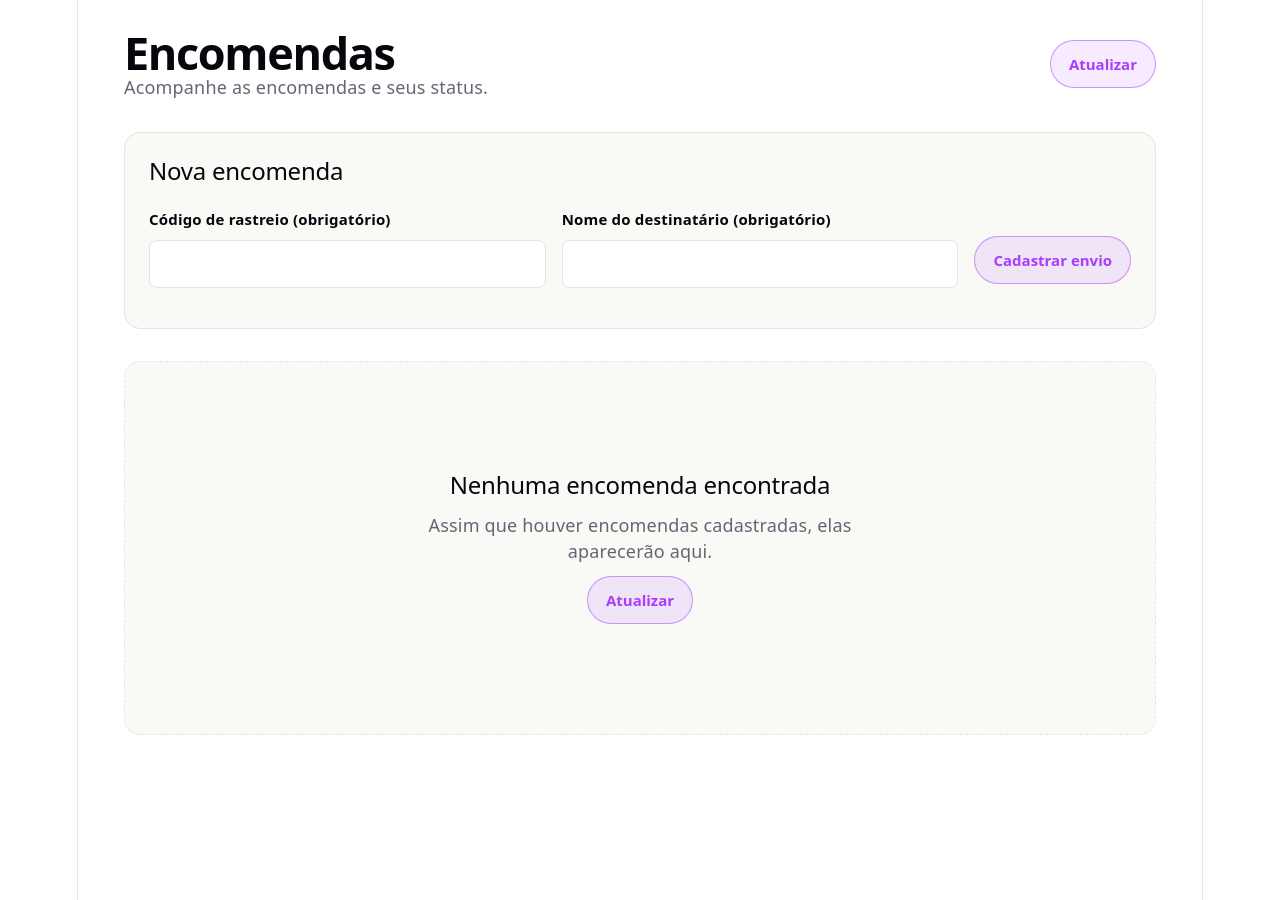
fluxos da página › exibe erro HTTP 409 sem limpar os valores
Expected: the heading "Nenhuma encomenda encontrada" is shown, [450,471,830,500]
Type " AB123BR " into the field labelled "Código de rastreio (obrigatório)".
click(347, 264); type(" AB123BR ")  # box [149,240,546,288]
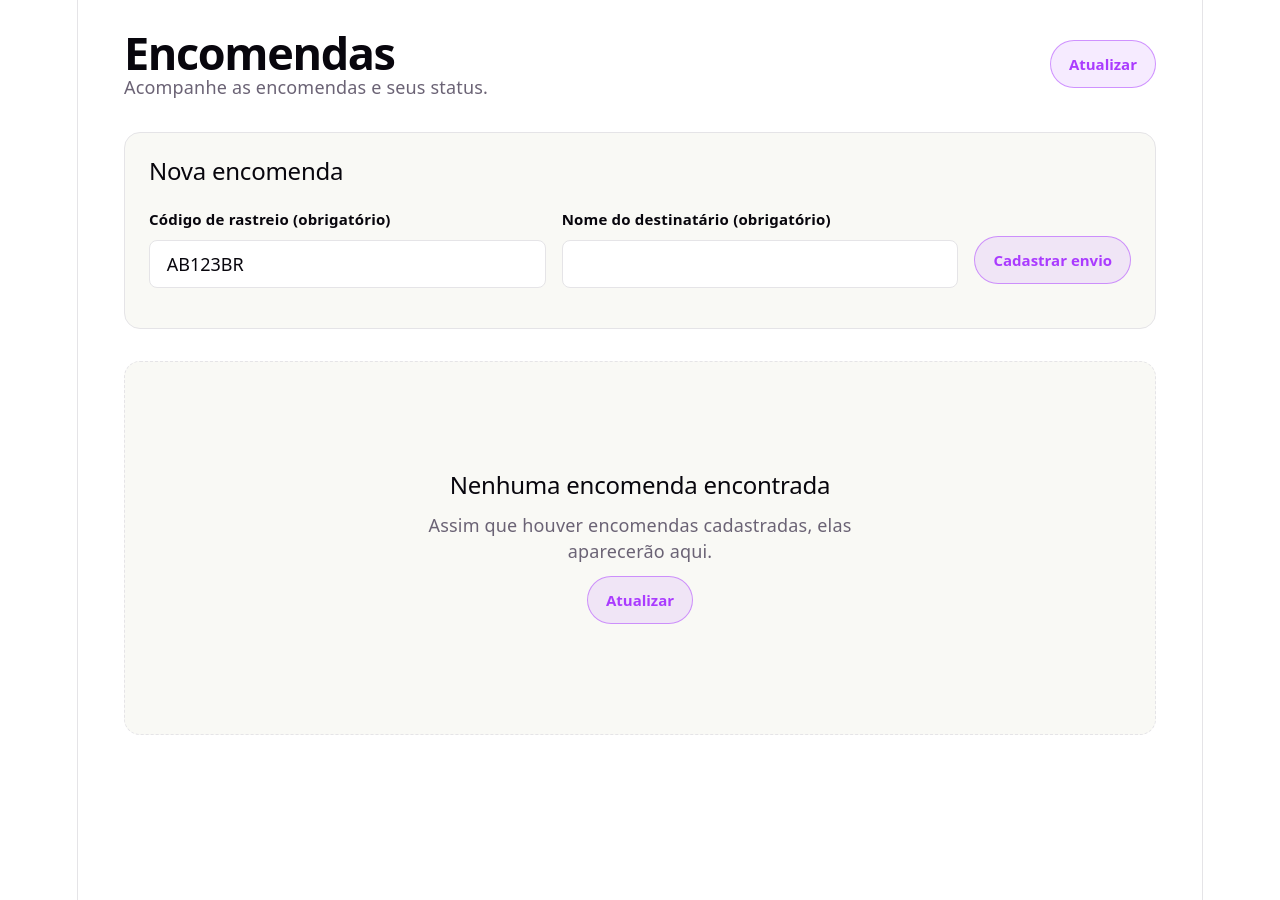
Type "Maria Silva" into the field labelled "Nome do destinatário (obrigatório)".
click(760, 264); type("Maria Silva")  # box [562,240,958,288]
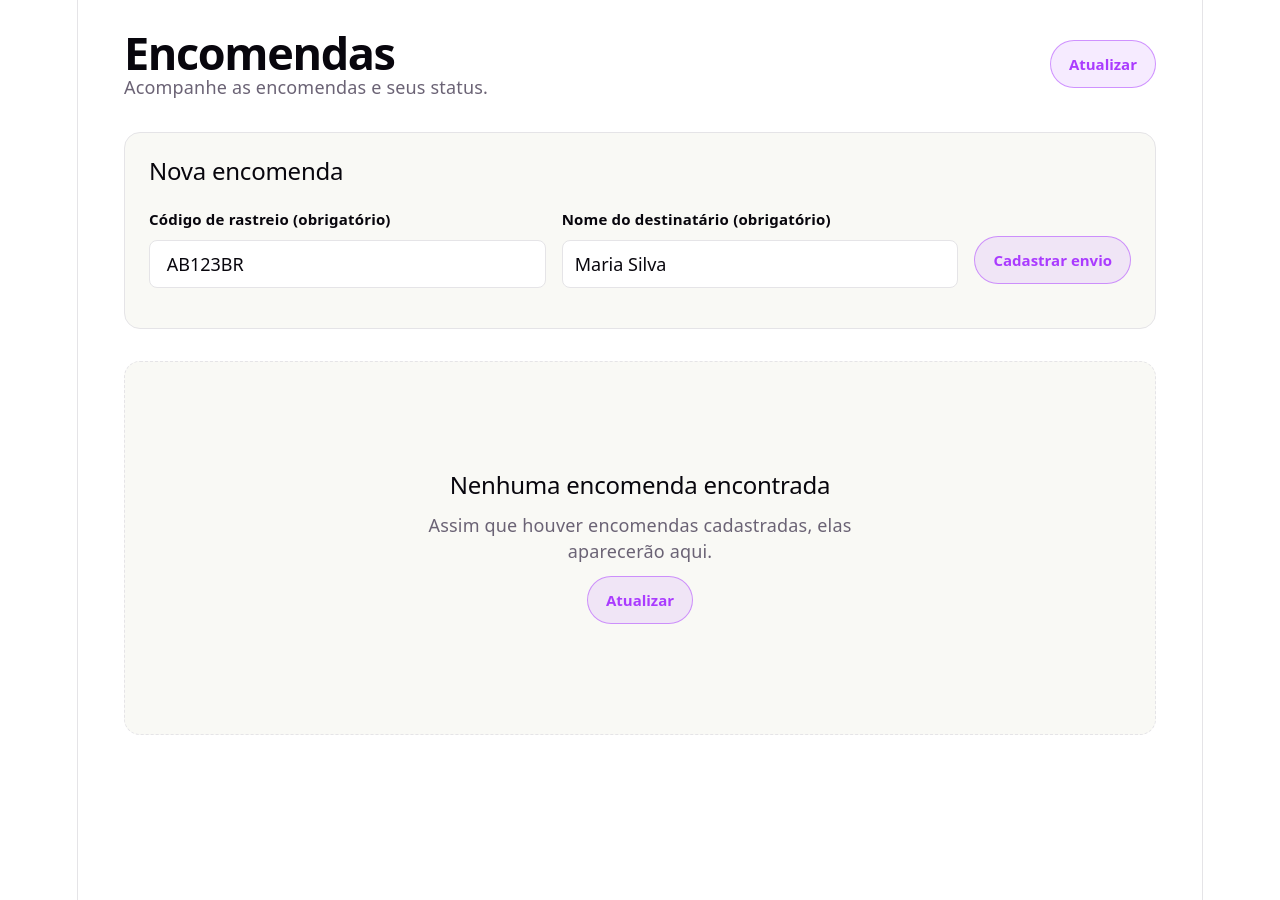
Click the button "Cadastrar envio".
click(1053, 260)  # box [974,236,1131,284]
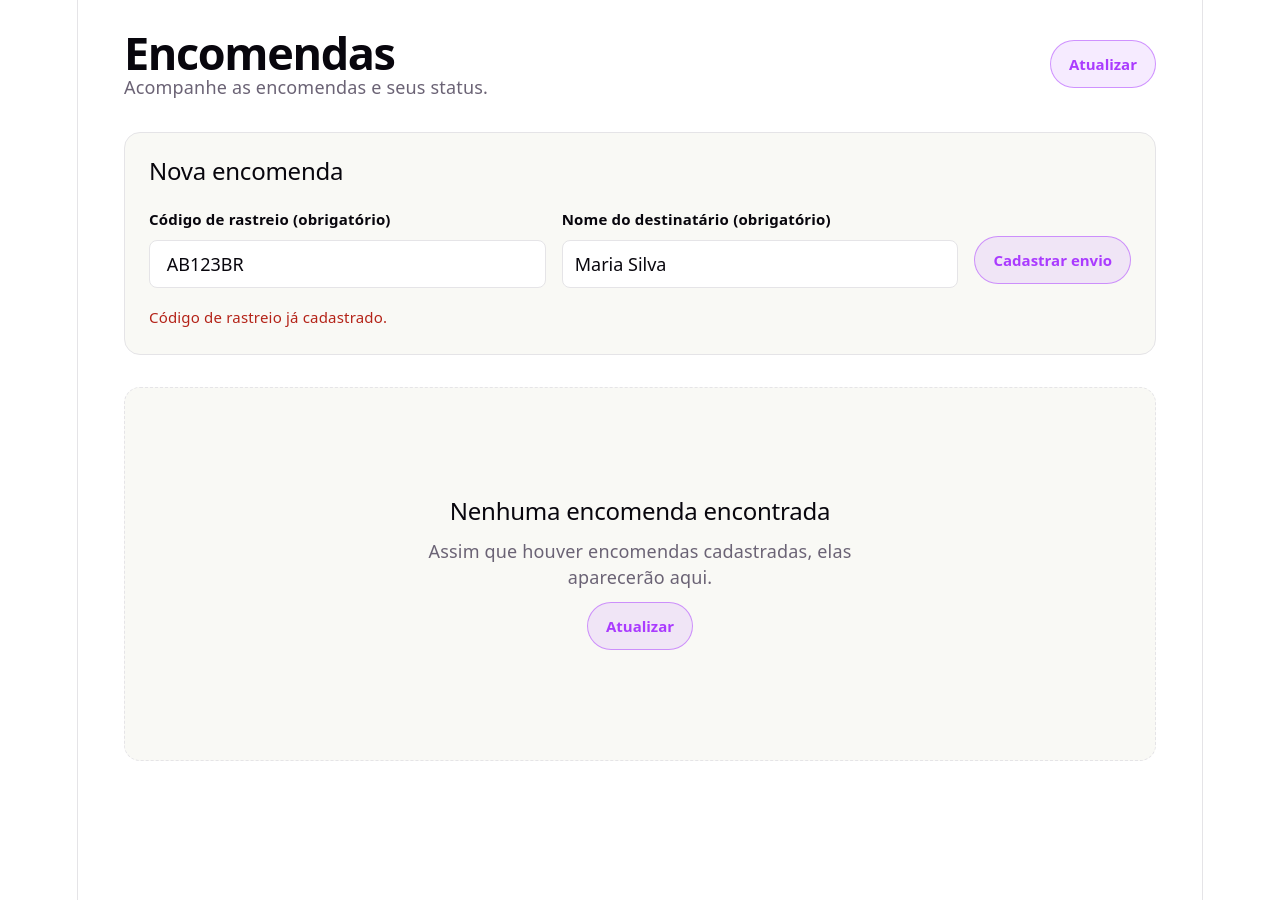
Now the text "Código de rastreio já cadastrado." is shown, box [149,307,387,327]
